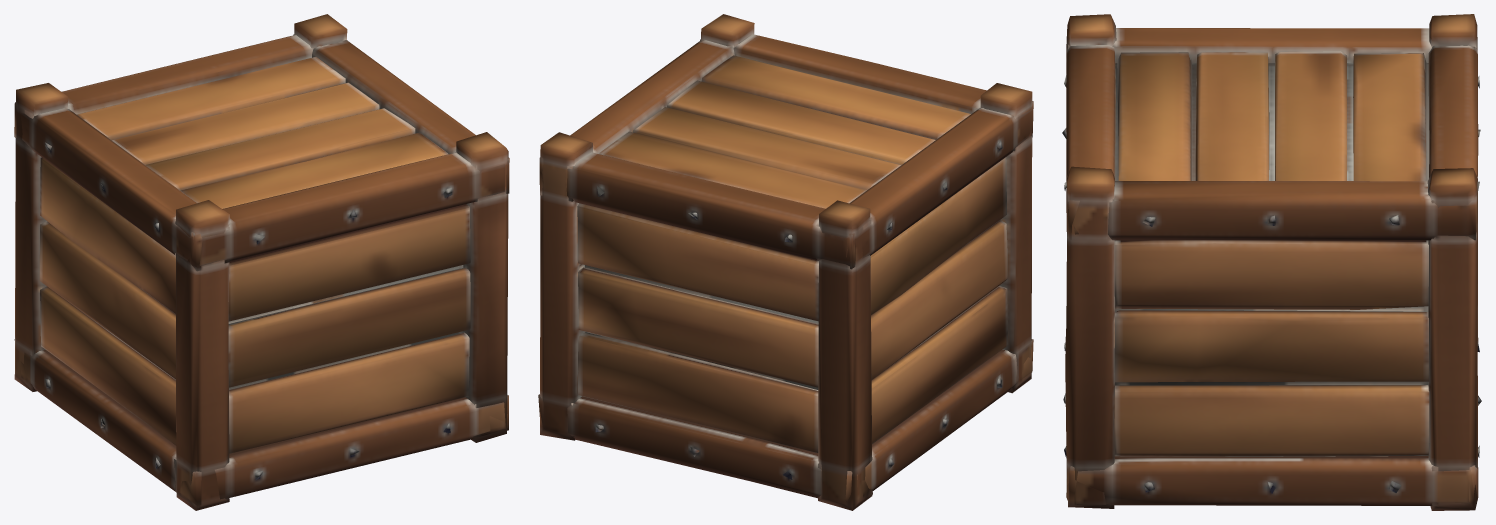
File: crate.glb
3 views of the same model, side by side, from view 1: azimuth 30°, elevation 25°; view 2: azimuth 150°, elevation 25°; view 3: azimuth 270°, elevation 25° (orthographic). The views are drawn at different scales.
Parts seen in each view (by area): view 1: crate; view 2: crate; view 3: crate.
Boxes of the visible parts, bbox=[...] form: crate: bbox=[14, 14, 509, 510]; crate: bbox=[538, 14, 1033, 510]; crate: bbox=[1062, 14, 1481, 510].
Bounding box in the file's own units: 0.8574 × 0.7353 × 0.858.
1 material, 1 textured.
